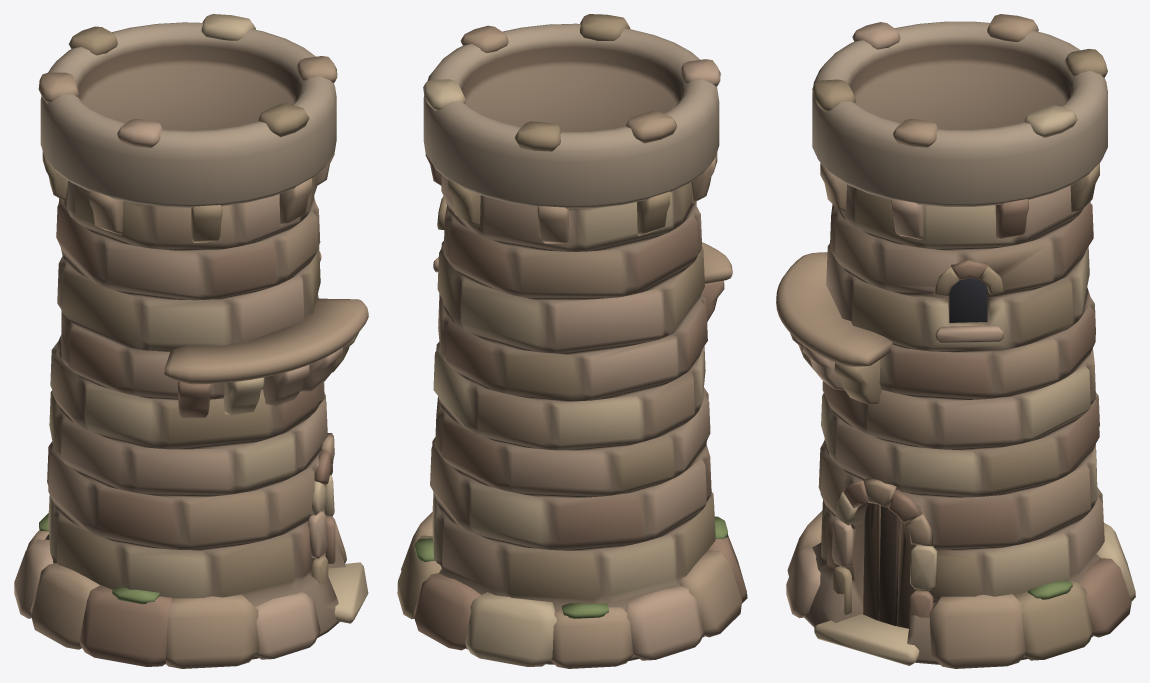
Rendered from ENV_Old_Tower_A.fbx.
3 renders of one model, left to right at view 1: azimuth 30°, elevation 25°; view 2: azimuth 150°, elevation 25°; view 3: azimuth 270°, elevation 25°, orthographic.
Visible parts, largest first — view 1: ENV_Old_Tower_A_LOD0; view 2: ENV_Old_Tower_A_LOD0; view 3: ENV_Old_Tower_A_LOD0.
Boxes of the visible parts, x1,y1,x2,y2 form: ENV_Old_Tower_A_LOD0: (14, 14, 368, 668); ENV_Old_Tower_A_LOD0: (397, 14, 747, 668); ENV_Old_Tower_A_LOD0: (776, 14, 1135, 668).
Size of what is drawn, in the model's own units: 3.54 by 5.85 by 3.63.
